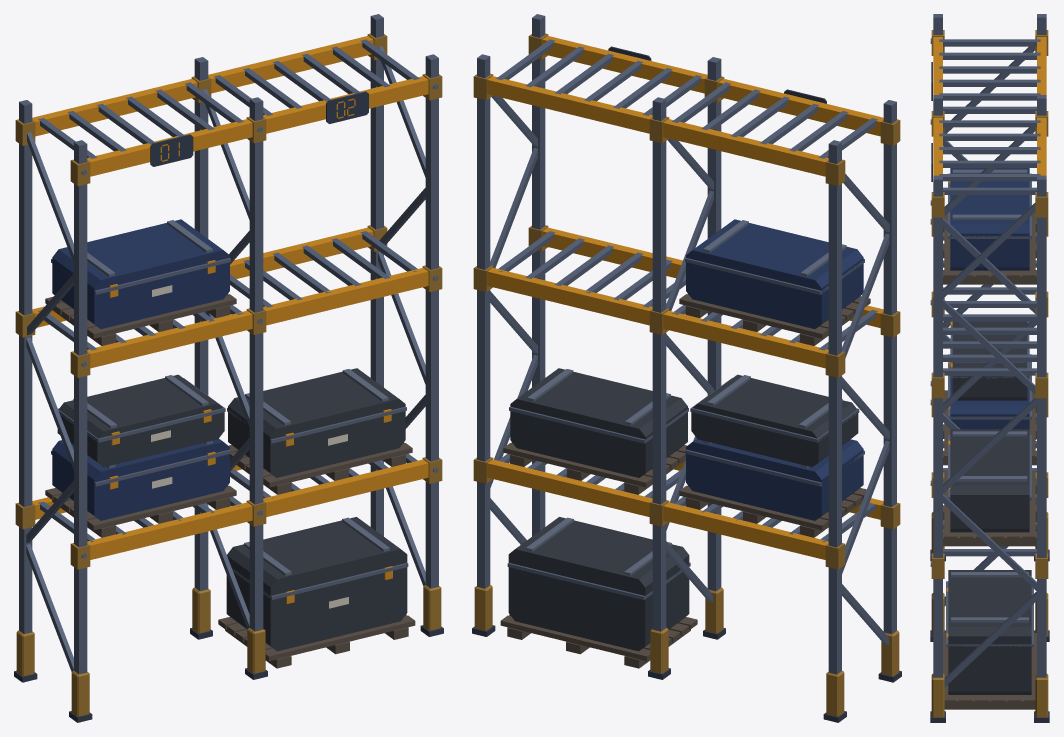
File: wh_pallet_rack.glb
3 renders of one model, left to right at view 1: azimuth 30°, elevation 25°; view 2: azimuth 150°, elevation 25°; view 3: azimuth 270°, elevation 25°, orthographic. The views are drawn at different scales.
Parts seen in each view (by area): view 1: closure_band, flight_shell.001, digit, flight_shell, bolted_cleat, cross_plank, lid_runner, anchor_foot, inventory; view 2: closure_band, flight_shell.001, digit, flight_shell, bolted_cleat, cross_plank, lid_runner, anchor_foot; view 3: closure_band, flight_shell.001, flight_shell, cross_plank, bolted_cleat, lid_runner, digit, anchor_foot.
Boxes of the visible parts, <box> form: closure_band: <box>19,14,438,674</box>; flight_shell.001: <box>57,368,407,651</box>; digit: <box>32,36,428,603</box>; flight_shell: <box>52,219,229,520</box>; bolted_cleat: <box>15,33,442,716</box>; cross_plank: <box>45,293,415,668</box>; lid_runner: <box>73,84,438,575</box>; anchor_foot: <box>14,91,443,722</box>; inventory: <box>151,285,348,608</box>; closure_band: <box>477,14,896,674</box>; flight_shell.001: <box>508,368,858,651</box>; digit: <box>487,36,883,559</box>; flight_shell: <box>686,219,863,520</box>; bolted_cleat: <box>473,33,900,716</box>; cross_plank: <box>500,293,870,668</box>; lid_runner: <box>526,220,846,575</box>; anchor_foot: <box>472,46,901,722</box>; closure_band: <box>933,14,1046,687</box>; flight_shell.001: <box>948,321,1031,694</box>; flight_shell: <box>950,168,1029,429</box>; cross_plank: <box>943,212,1036,709</box>; bolted_cleat: <box>931,30,1048,717</box>; lid_runner: <box>930,38,1028,622</box>; digit: <box>933,37,1046,647</box>; anchor_foot: <box>930,62,1049,722</box>.
Bounding box in the file's own units: 4 × 6 × 1.2.
